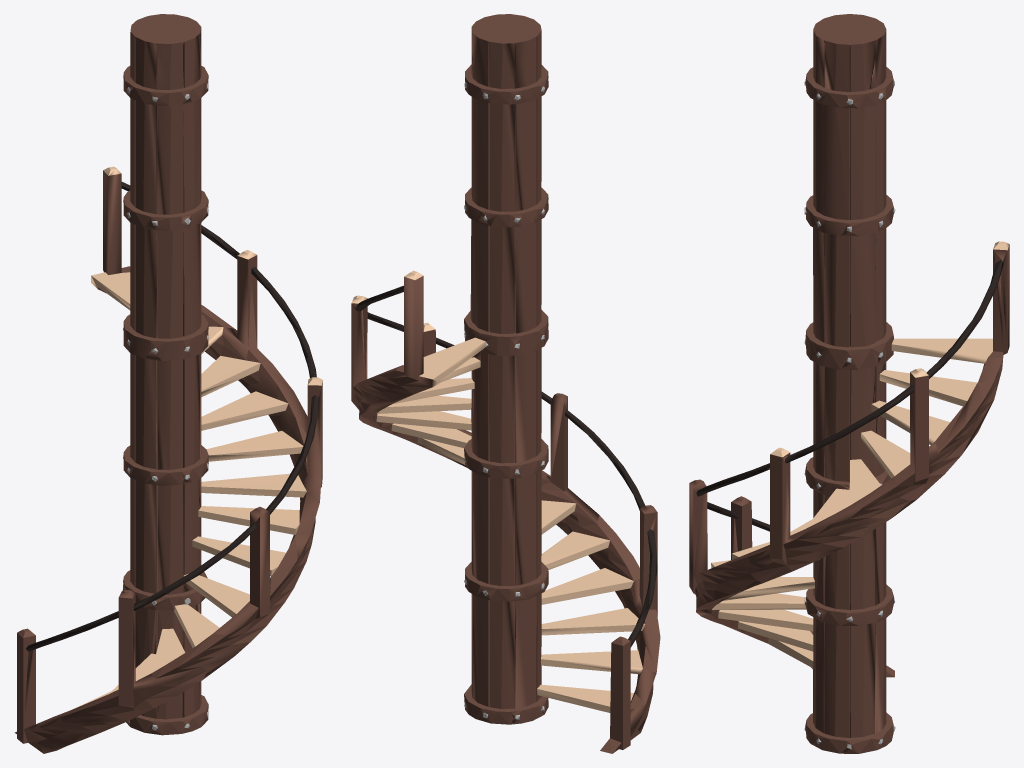
File: staircase-colonna.glb
The picture shows the model from 3 angles, left to right: view 1: azimuth 30°, elevation 25°; view 2: azimuth 150°, elevation 25°; view 3: azimuth 270°, elevation 25°; orthographic projection. The views are drawn at different scales.
Visible parts, largest first — view 1: staircase completa; view 2: staircase completa; view 3: staircase completa.
Part boxes in pixels (x1,y1,x2,y2): staircase completa: (14, 14, 322, 753); staircase completa: (351, 14, 660, 753); staircase completa: (689, 14, 1009, 753).
Size of the model in its own units: 0.7956 by 1.94 by 0.7983.
